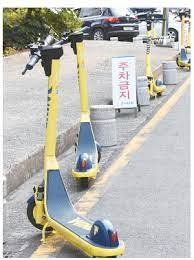kick_board: (19, 34, 126, 255), (59, 24, 102, 190), (136, 15, 168, 98), (173, 12, 189, 68)
kick_handler: (19, 33, 63, 71), (60, 26, 88, 50), (135, 16, 162, 23)
kick_neck: (43, 73, 59, 169), (75, 49, 91, 125), (146, 26, 153, 75)
kick_wheel: (90, 218, 123, 256), (27, 193, 53, 230), (74, 152, 91, 191)
